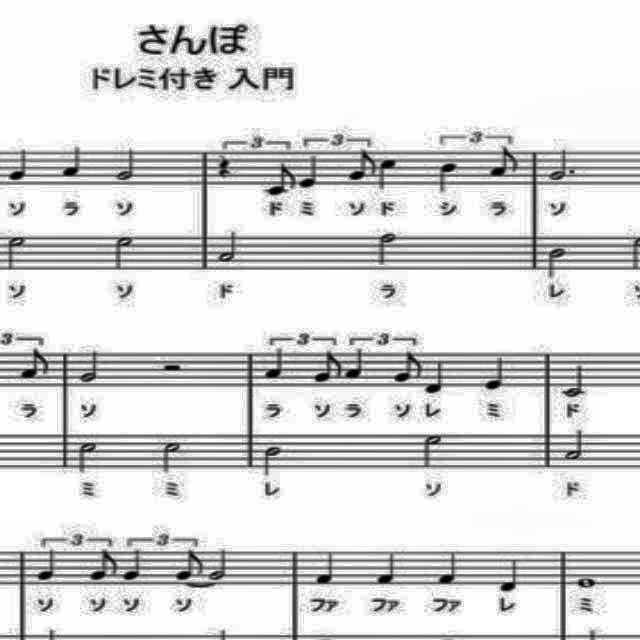Eighth-note: (264, 157, 298, 199), (311, 346, 343, 390), (15, 344, 52, 381), (170, 547, 206, 583), (388, 348, 424, 384), (346, 144, 378, 183), (86, 546, 120, 582), (488, 146, 520, 178)
Full-note: (570, 570, 598, 590)
Half-dot: (546, 144, 578, 182)
Half-note: (559, 355, 589, 401), (559, 422, 589, 466), (108, 142, 140, 182), (110, 230, 138, 274), (373, 229, 403, 267), (419, 431, 445, 473), (212, 228, 242, 264), (259, 440, 285, 480), (4, 232, 28, 274), (77, 342, 99, 386), (76, 436, 100, 476), (543, 244, 569, 280), (207, 546, 231, 582), (162, 440, 182, 476)
Half-rest: (158, 356, 186, 376)
Quarter-note: (497, 548, 527, 596), (481, 352, 511, 393), (30, 544, 58, 586), (372, 546, 400, 588), (434, 546, 462, 588), (58, 140, 86, 180), (297, 153, 325, 191), (436, 159, 464, 197), (262, 344, 290, 382), (310, 549, 338, 587), (121, 546, 147, 586), (376, 151, 400, 193), (424, 357, 448, 399), (342, 343, 368, 381), (6, 142, 30, 182)
Quarter-rest: (212, 148, 235, 182)
